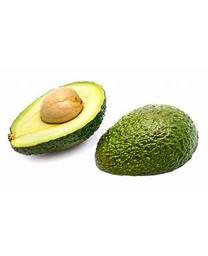avocado: (95, 105, 198, 176), (8, 82, 107, 155)
